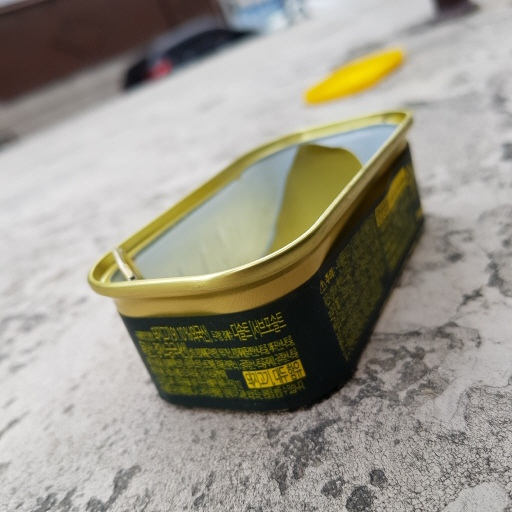Metal_2: (88, 111, 427, 415)
